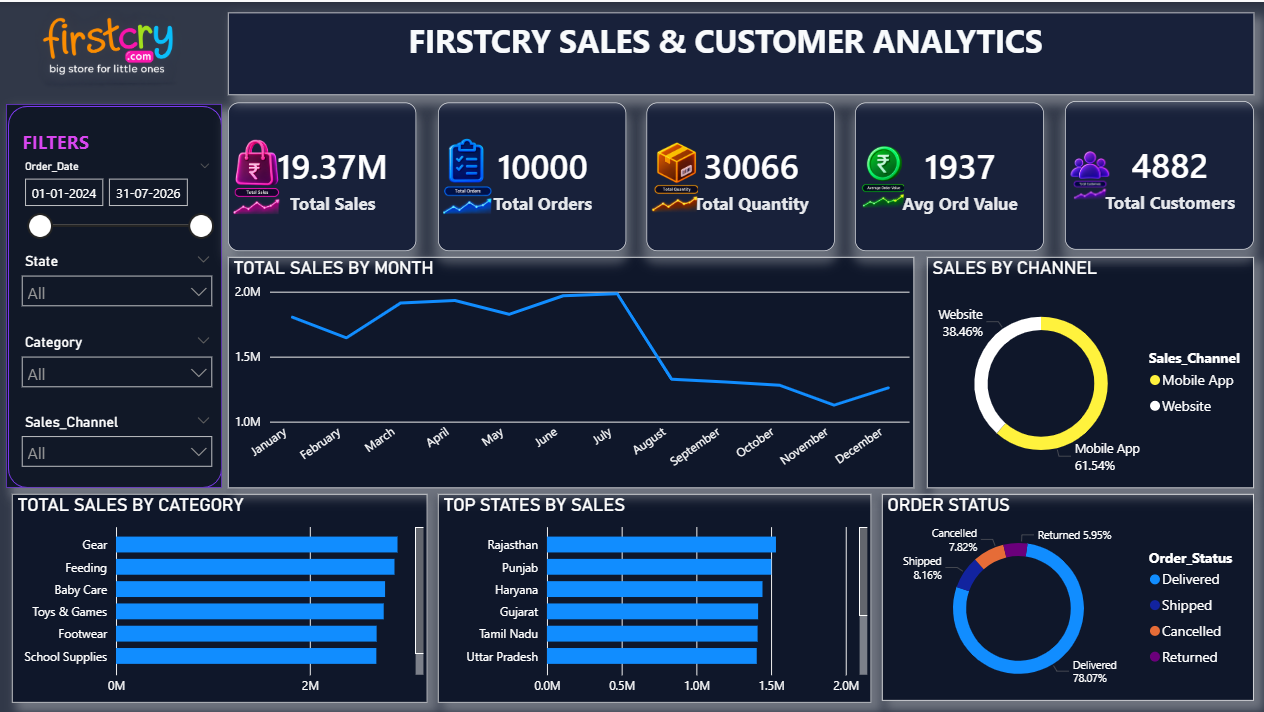

The page's visual inventory and layout, read from the dashboard file:
{"tool":"powerbi","page":{"name":"Executive Dashboard","canvas":[1280,720],"ordinal":0},"visuals":[{"type":"image","box":[0,0,218,93.9],"z":0},{"type":"group","id":"g1","title":"Group 1","box":[862.9,101.9,190.9,150],"z":0,"group":"g8"},{"type":"slicer","fields":{"Values":["FirstCry_Dataset.Order_Date"]},"box":[12.1,154.4,212.2,89.5],"z":0,"group":"g5"},{"type":"group","id":"g2","title":"Group 3","box":[652.3,101.4,189.3,149.9],"z":1000,"group":"g8"},{"type":"shape","box":[6.1,103,218,387.6],"z":1000},{"type":"slicer","fields":{"Values":["FirstCry_Dataset.State"]},"box":[12.1,248,212.2,77.4],"z":1000,"group":"g5"},{"type":"group","id":"g3","title":"Group 4","box":[441.6,101.4,189.3,149.9],"z":2000,"group":"g8"},{"type":"textbox","box":[6.1,104.5,218,386.1],"z":2000},{"type":"slicer","fields":{"Values":["FirstCry_Dataset.Category"]},"box":[12.1,329.4,212.2,77.4],"z":2000,"group":"g5"},{"type":"group","id":"g4","title":"Group 5","box":[230.2,101.4,190.1,150],"z":3000,"group":"g8"},{"type":"group","id":"g5","title":"Group 2","box":[12.1,154.4,212,322.5],"z":3000},{"type":"slicer","fields":{"Values":["FirstCry_Dataset.Sales_Channel"]},"box":[12.1,410.9,212.2,77.4],"z":3000,"group":"g5"},{"type":"group","id":"g6","title":"Group 6","box":[1075.1,99.9,190.8,149.9],"z":4000,"group":"g8"},{"type":"card","fields":{"Values":["FirstCry_Dataset.Total Customers"]},"box":[1075.1,99.9,190.8,149.9],"z":5000,"group":"g6"},{"type":"card","fields":{"Values":["FirstCry_Dataset.Total Sales"]},"box":[230.3,101.4,190,150],"z":5000,"group":"g4"},{"type":"barChart","title":"TOTAL SALES BY CATEGORY","fields":{"Category":["FirstCry_Dataset.Category"],"Y":["FirstCry_Dataset.Total Sales"]},"box":[12.1,496.7,419.4,210.5],"z":5000},{"type":"card","fields":{"Values":["FirstCry_Dataset.Total Quantity"]},"box":[652.4,101.4,189.9,150],"z":6000,"group":"g2"},{"type":"clusteredBarChart","title":"TOP STATES BY SALES","fields":{"Y":["FirstCry_Dataset.Total Sales"],"Category":["FirstCry_Dataset.State"]},"box":[442.1,496.7,437.6,210.5],"z":6000},{"type":"card","fields":{"Values":["FirstCry_Dataset.Average Order Value"]},"box":[862.9,101.9,190.9,150],"z":7000,"group":"g1"},{"type":"donutChart","title":"ORDER STATUS","fields":{"Category":["FirstCry_Dataset.Order_Status"],"Y":["FirstCry_Dataset.Total Orders"]},"box":[890.4,496.7,375.5,209],"z":7000},{"type":"group","id":"g7","title":"Group 9","box":[230.2,256.8,1035.5,233.8],"z":8000},{"type":"group","id":"g8","title":"Group 7","box":[230.2,99.9,1035.7,151.4],"z":9000},{"type":"card","fields":{"Values":["FirstCry_Dataset.Total Orders"]},"box":[441.6,101.7,190,149.7],"z":9000,"group":"g3"},{"type":"textbox","box":[230.2,10.6,1035.7,83.3],"z":10000},{"type":"lineChart","title":"TOTAL SALES BY MONTH","fields":{"Category":["FirstCry_Dataset.Order_Date.Variation.Date Hierarchy.Month"],"Y":["FirstCry_Dataset.Total Sales"]},"box":[230.2,257.4,692.4,233.2],"z":10000,"group":"g7"},{"type":"image","box":[1075.1,99.9,50,149.9],"z":10001,"group":"g6"},{"type":"image","box":[442.3,101.4,58.7,148.4],"z":11000,"group":"g3"},{"type":"donutChart","title":"SALES BY CHANNEL","fields":{"Category":["FirstCry_Dataset.Sales_Channel"],"Y":["FirstCry_Dataset.Total Sales"]},"box":[935.6,256.8,330.1,233.2],"z":11000,"group":"g7"},{"type":"image","box":[652.3,103.2,57.1,148.2],"z":14000,"group":"g2"},{"type":"image","box":[863.9,103.7,53,147.4],"z":15000,"group":"g1"},{"type":"image","box":[230.2,101.4,57.5,150],"z":20000,"group":"g4"}]}

Visuals, with their boxes in screenshot pixels (x1, y1, x2, y2), scaled from the page's 1280x720 canvas onto the 1264x712 screenshot:
image: detection(0, 0, 215, 93)
"Group 1" group: detection(852, 101, 1041, 249)
slicer - FirstCry_Dataset.Order_Date: detection(12, 153, 221, 241)
"Group 3" group: detection(644, 100, 831, 249)
shape: detection(6, 102, 221, 485)
slicer - FirstCry_Dataset.State: detection(12, 245, 221, 322)
"Group 4" group: detection(436, 100, 623, 249)
textbox: detection(6, 103, 221, 485)
slicer - FirstCry_Dataset.Category: detection(12, 326, 221, 402)
"Group 5" group: detection(227, 100, 415, 249)
"Group 2" group: detection(12, 153, 221, 472)
slicer - FirstCry_Dataset.Sales_Channel: detection(12, 406, 221, 483)
"Group 6" group: detection(1062, 99, 1250, 247)
card - FirstCry_Dataset.Total Customers: detection(1062, 99, 1250, 247)
card - FirstCry_Dataset.Total Sales: detection(227, 100, 415, 249)
"TOTAL SALES BY CATEGORY" barChart: detection(12, 491, 426, 699)
card - FirstCry_Dataset.Total Quantity: detection(644, 100, 832, 249)
"TOP STATES BY SALES" clusteredBarChart: detection(437, 491, 869, 699)
card - FirstCry_Dataset.Average Order Value: detection(852, 101, 1041, 249)
"ORDER STATUS" donutChart: detection(879, 491, 1250, 698)
"Group 9" group: detection(227, 254, 1250, 485)
"Group 7" group: detection(227, 99, 1250, 249)
card - FirstCry_Dataset.Total Orders: detection(436, 101, 624, 249)
textbox: detection(227, 10, 1250, 93)
"TOTAL SALES BY MONTH" lineChart: detection(227, 255, 911, 485)
image: detection(1062, 99, 1111, 247)
image: detection(437, 100, 495, 247)
"SALES BY CHANNEL" donutChart: detection(924, 254, 1250, 485)
image: detection(644, 102, 701, 249)
image: detection(853, 103, 905, 248)
image: detection(227, 100, 284, 249)
